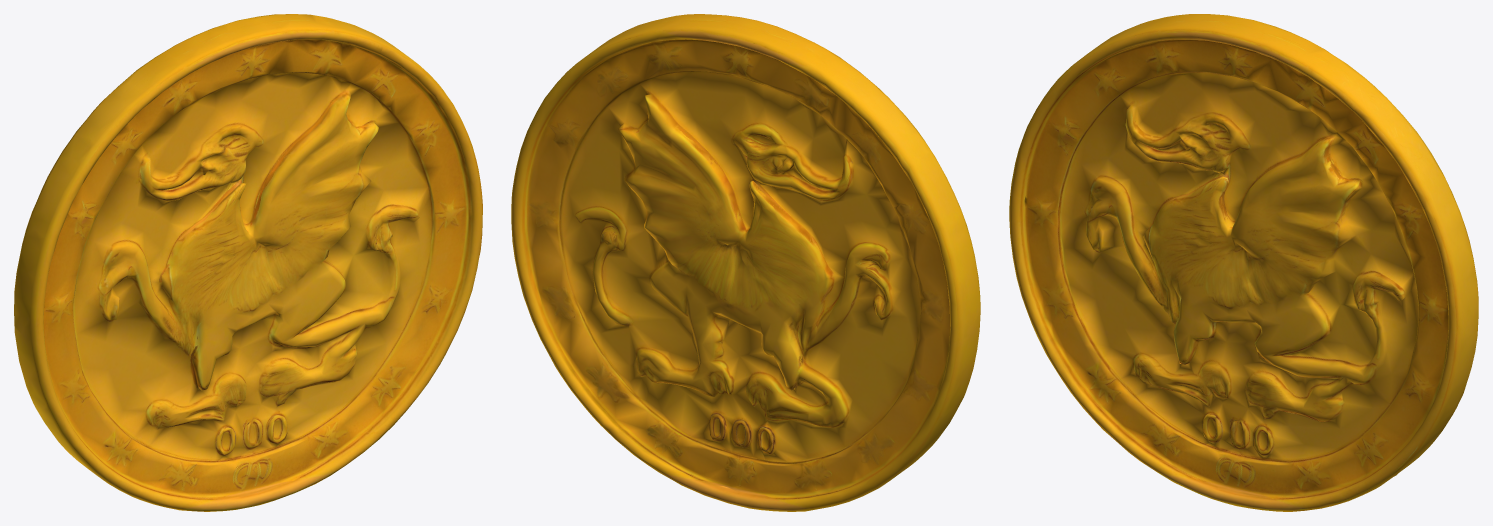
The model's file is coin.glb.
The picture shows the model from 3 angles, left to right: view 1: azimuth 30°, elevation 25°; view 2: azimuth 150°, elevation 25°; view 3: azimuth 330°, elevation 25°; orthographic projection.
Bounding box in the file's own units: 2 × 2 × 0.1816.
1 material, 1 textured.
